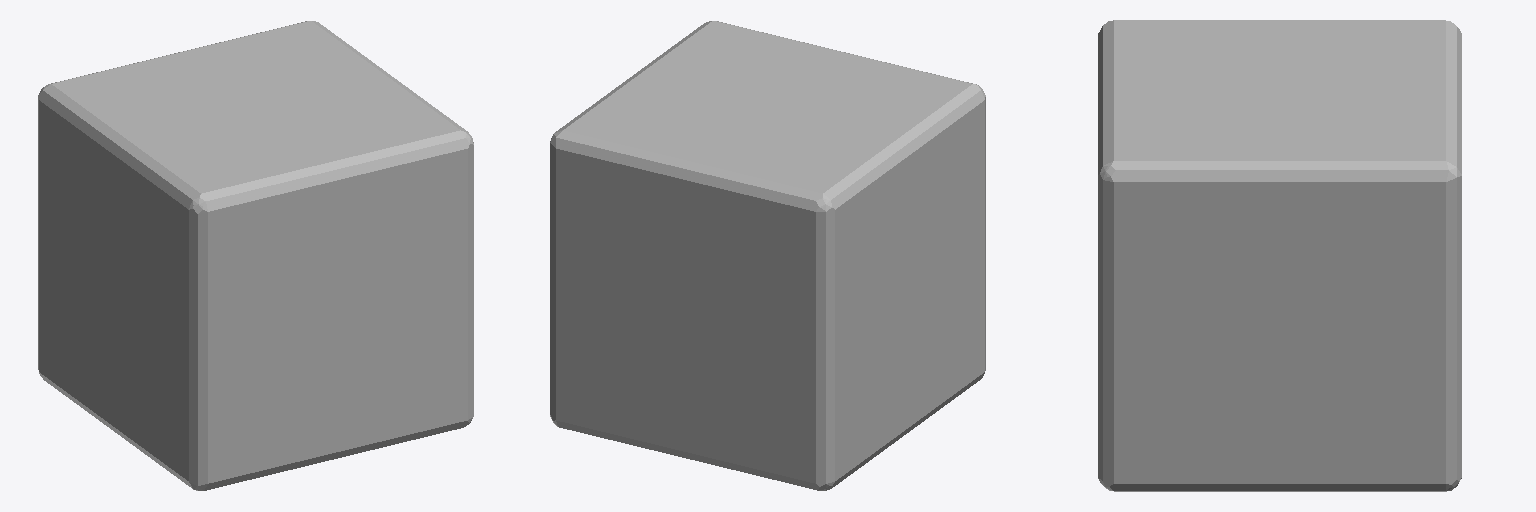
robot.urdf — root:
<robot name="root">
  <link name="link_coacd_convex_piece_0">
    <inertial>
      <origin xyz="0 0 0" rpy="0 0 0"/>
      <mass value="1.63E+00"/>
      <inertia ixx="3.90E-01" ixy="-1.69E-06" ixz="-1.67E-06" iyy="3.90E-01" iyz="-1.70E-06" izz="3.90E-01"/>
    </inertial>
    <visual>
      <origin xyz="0 0 0" rpy="0 0 0"/>
      <geometry>
        <mesh filename="coacd_convex_piece_0.obj" scale="1.0000E+00 1.0000E+00 1.0000E+00"/>
      </geometry>
      <material name="">
        <color rgba="7.50E-01 7.50E-01 7.50E-01 1"/>
      </material>
    </visual>
    <collision>
      <origin xyz="0 0 0" rpy="0 0 0"/>
      <geometry>
        <mesh filename="coacd_convex_piece_0.obj" scale="1.0000E+00 1.0000E+00 1.0000E+00"/>
      </geometry>
    </collision>
  </link>
</robot>

--- Facts derived from the render (not from the file) ---
3 views of the same robot in one strip: view 1: azimuth 30°, elevation 25°; view 2: azimuth 150°, elevation 25°; view 3: azimuth 270°, elevation 25° (orthographic).
Robot: root — 1 links, 0 joints (none); root link link_coacd_convex_piece_0; default pose: all joints at 0.
Links seen in each view (by area): view 1: link_coacd_convex_piece_0; view 2: link_coacd_convex_piece_0; view 3: link_coacd_convex_piece_0.
Link boxes in pixels (<box>): link_coacd_convex_piece_0: <box>38,21,473,490</box>; link_coacd_convex_piece_0: <box>550,21,985,490</box>; link_coacd_convex_piece_0: <box>1098,20,1461,491</box>.
Size in the robot's own frame: 1.2 by 1.2 by 1.2 metres.
1 mesh visuals loaded from 1 distinct referenced files (1 OBJ).